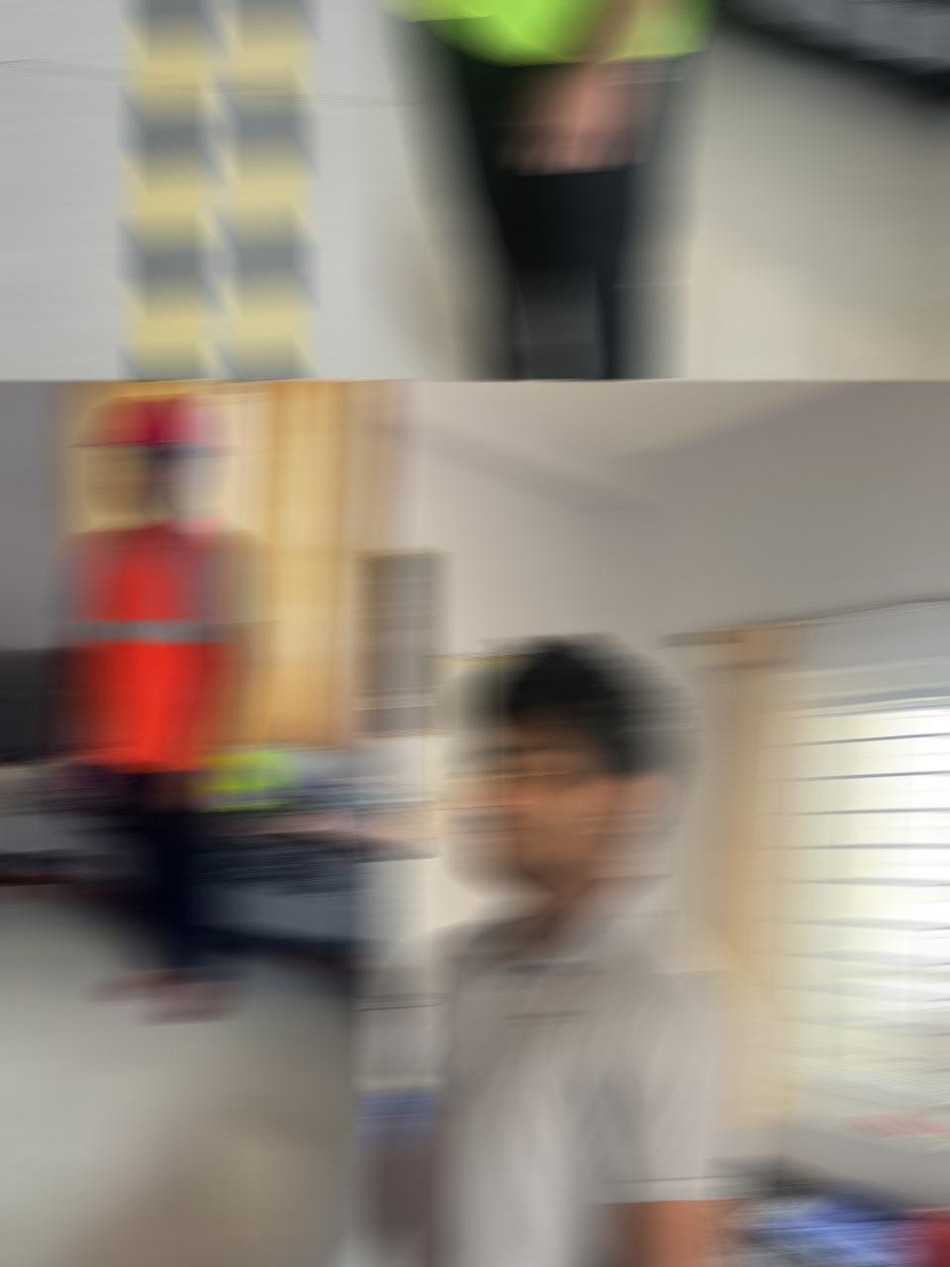BorderLine: (141, 0, 214, 380), (237, 0, 303, 380)
Helmet: (93, 393, 212, 458), (898, 1202, 950, 1266)
No_Helmet: (462, 631, 679, 903)
No_Vest: (394, 876, 757, 1267)
Person: (379, 631, 757, 1267), (379, 0, 760, 380), (61, 393, 257, 1023)
Vest: (76, 511, 250, 772)
